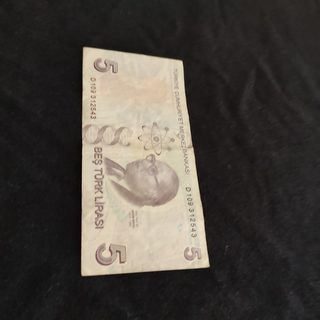5TLBack: (80, 46, 210, 276)
